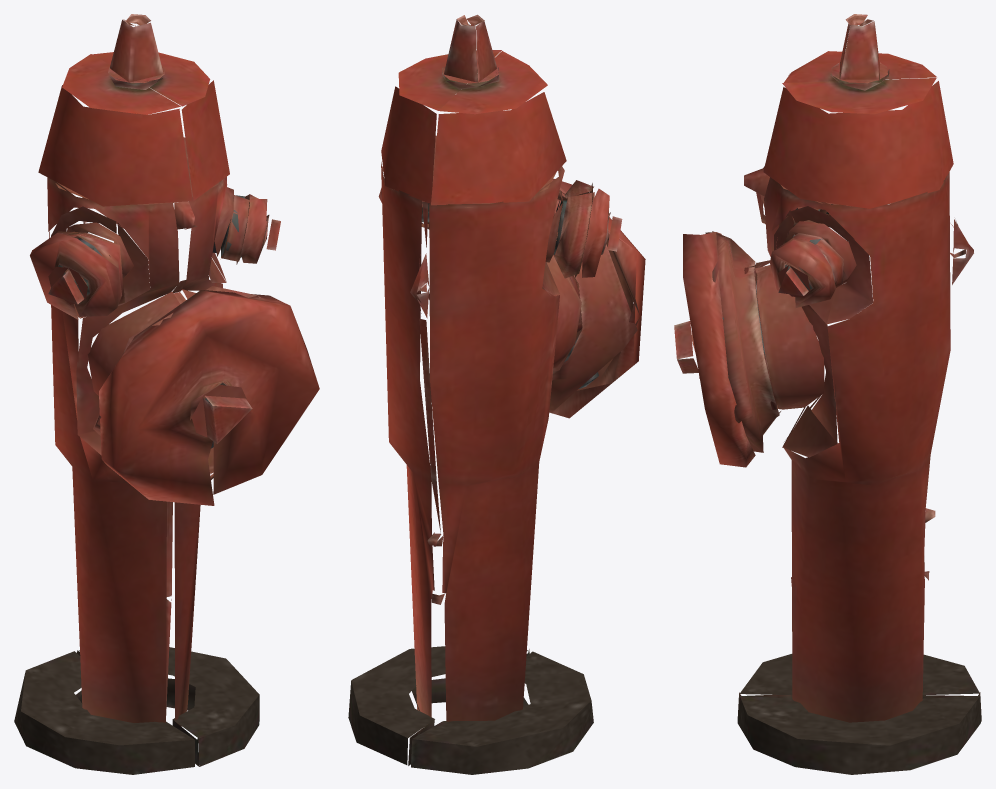
The model's file is hydrant.glb.
The picture shows the model from 3 angles, left to right: view 1: azimuth 30°, elevation 25°; view 2: azimuth 150°, elevation 25°; view 3: azimuth 270°, elevation 25°; orthographic projection.
Parts seen in each view (by area): view 1: hydrant; view 2: hydrant; view 3: hydrant.
Boxes of the visible parts, x1,y1,x2,y2 form: hydrant: [14, 14, 319, 774]; hydrant: [348, 14, 645, 774]; hydrant: [674, 14, 981, 774].
Size of the model in its own units: 0.0139 by 0.04 by 0.0159.
Materials: 1 (1 with a texture image).
